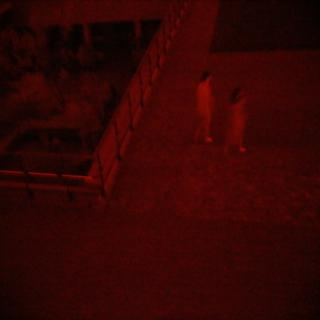person: (185, 62, 218, 147), (226, 83, 253, 157)
